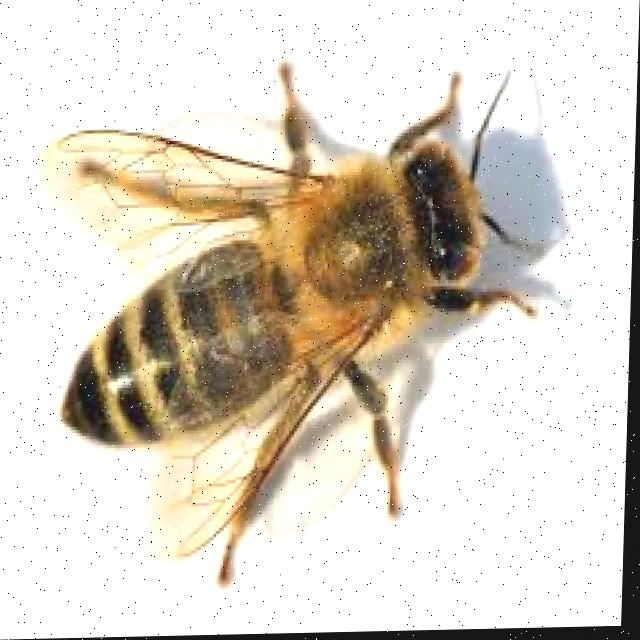Apis-mellifera-scutellata: (13, 39, 555, 584)
